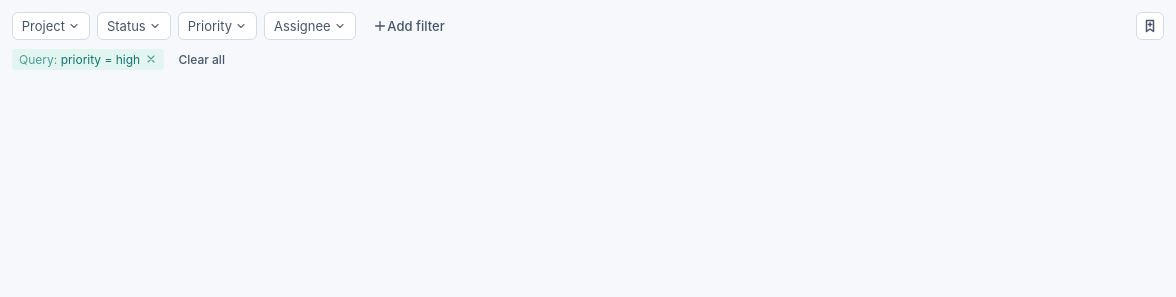
Test: FilterBar › clicking the query chip opens the advanced editor to edit it
Expected: the button with aria-label "Filter Status" is shown, [97,12,171,40]
Click the button with test id "query-chip-edit".
click(80, 59)  # box [19,51,140,68]
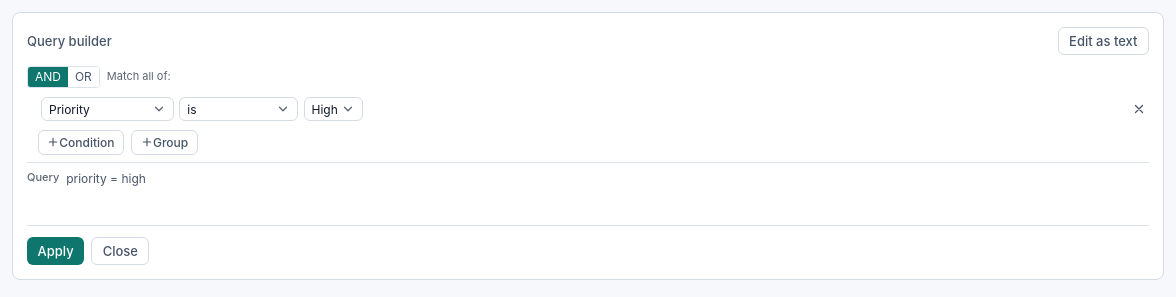
Expected: the element with test id "advanced-query-surface" is shown
